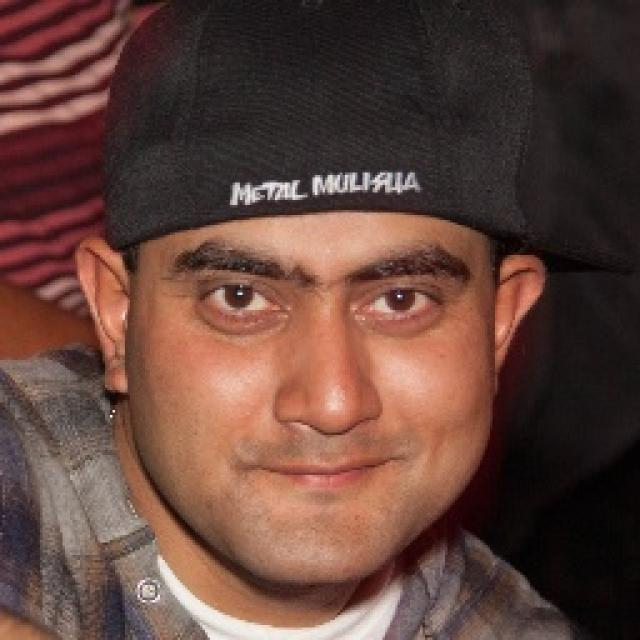earlobe: (75, 240, 131, 394), (490, 254, 546, 399)
